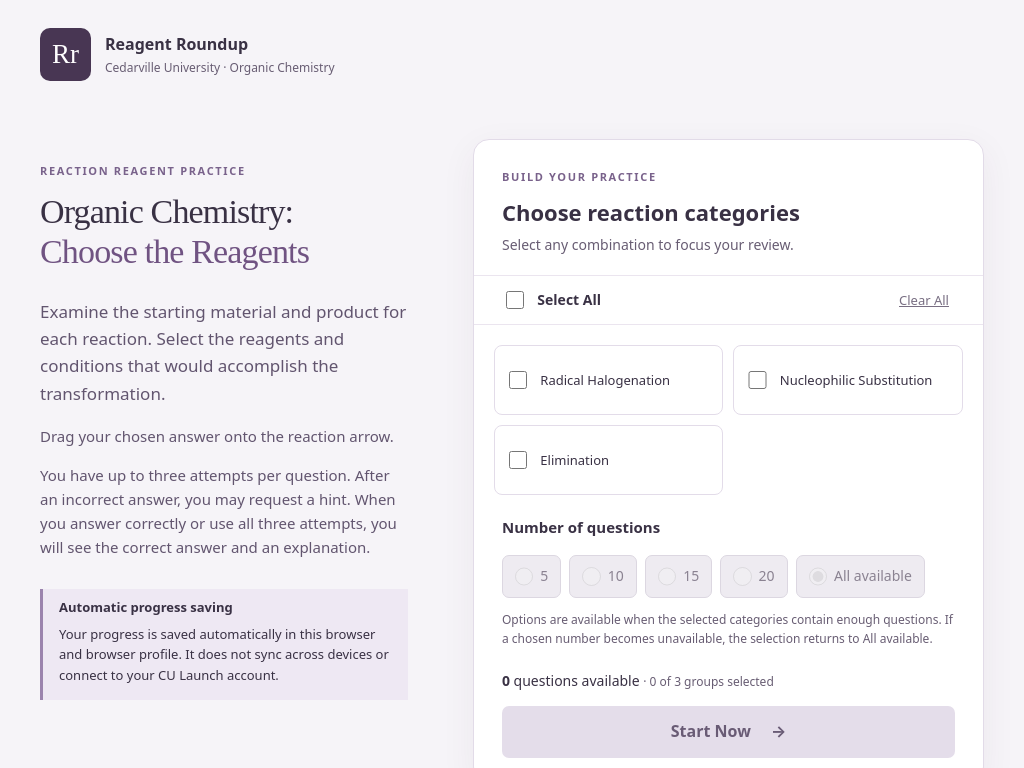
Test case: group selection filters underlying question categories › Radical Halogenation includes all its categories
Click the checkbox labelled "Radical Halogenation" at [518, 380], box [509,371,527,389]
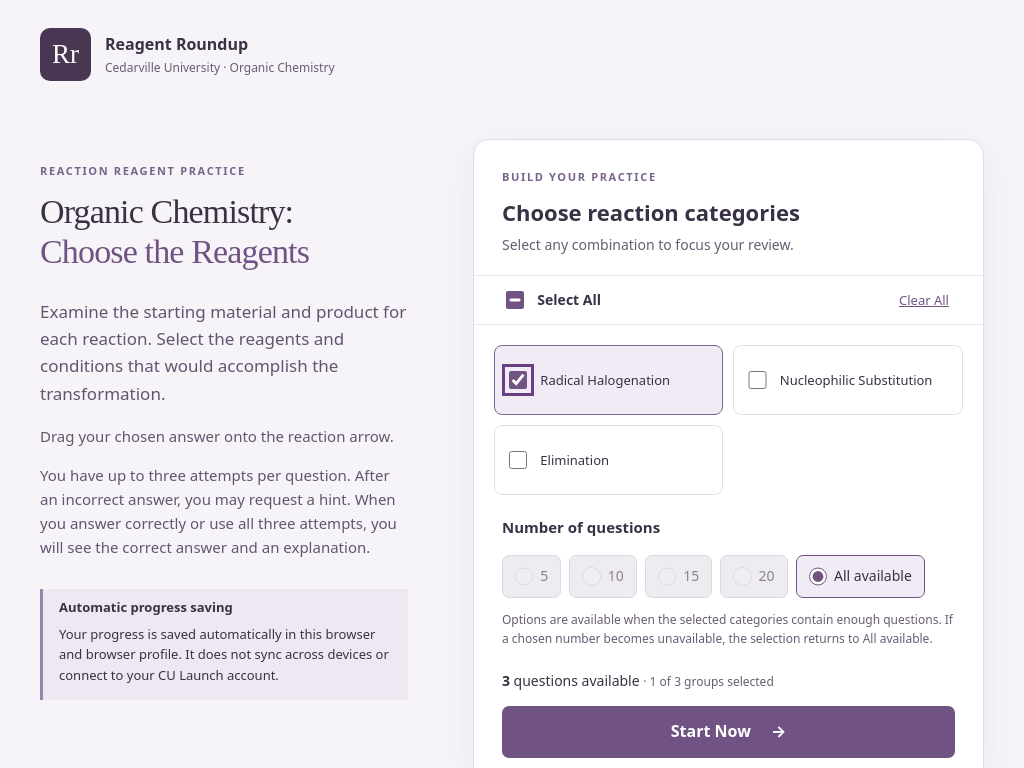
Click the checkbox labelled "Radical Halogenation" at [518, 380], box [509,371,527,389]
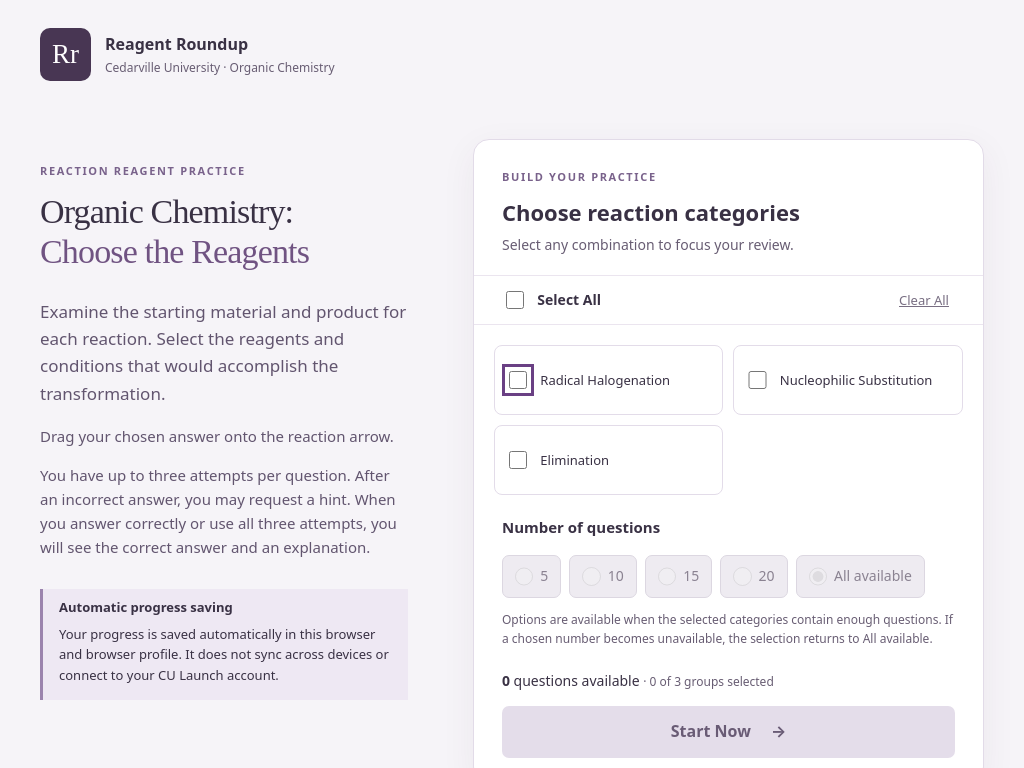
Expected: the message shows "0 questions available", [502,671,774,690]
